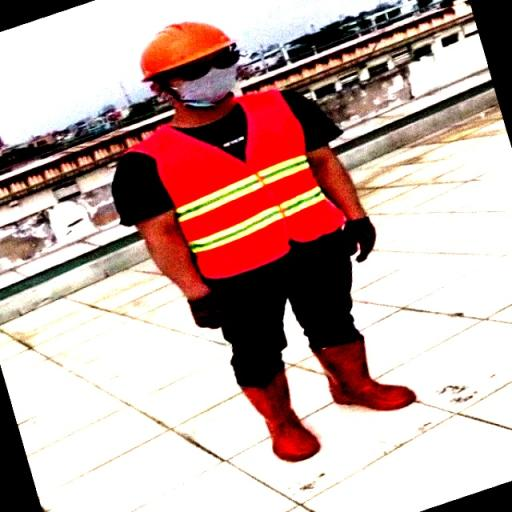Person: (96, 9, 455, 490)
boots: (233, 362, 328, 466), (310, 332, 419, 416)
gloves: (338, 208, 383, 268), (185, 288, 233, 334)
goggles: (150, 49, 242, 85)
helmet: (136, 16, 238, 82)
vest: (116, 86, 347, 282)
